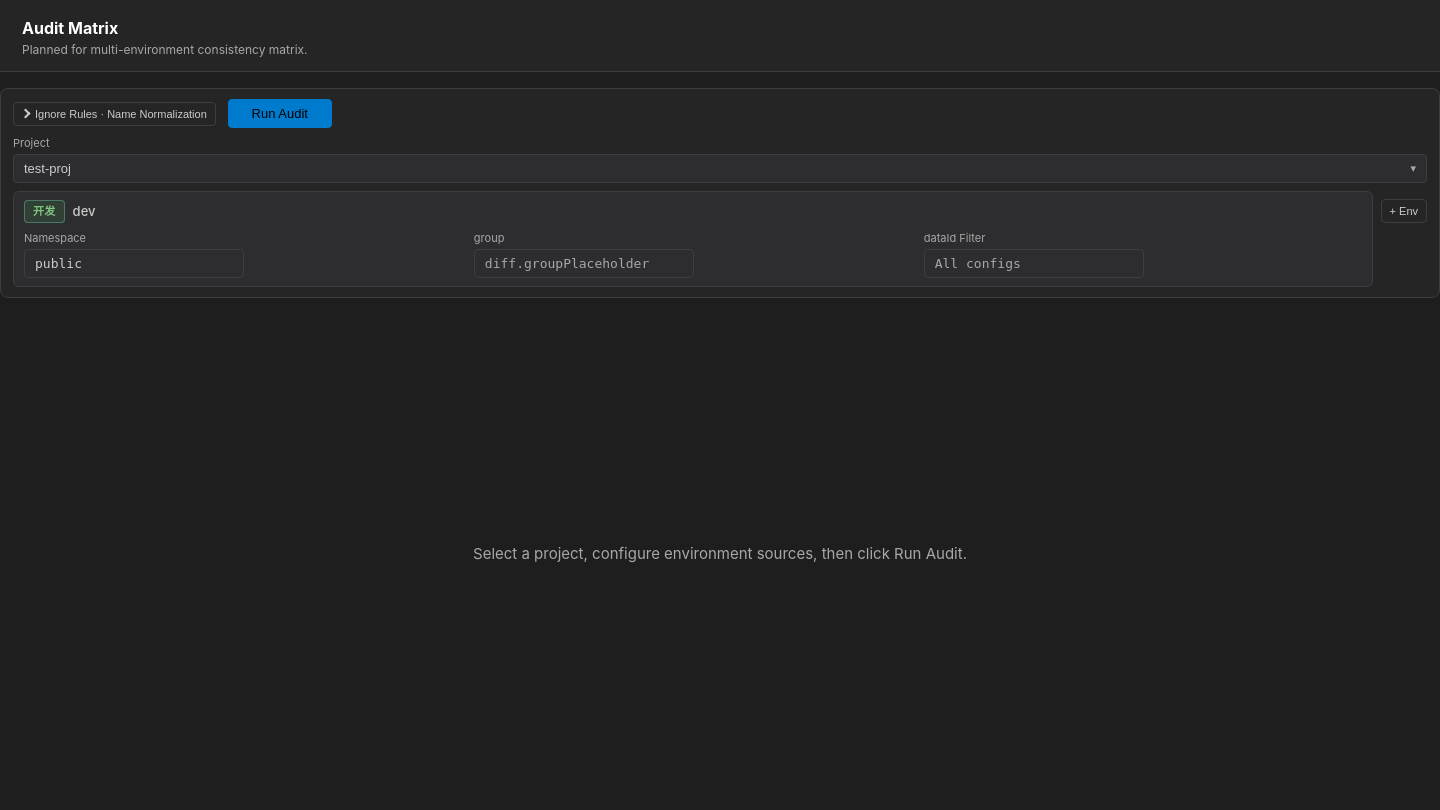
Test: AuditView › 显示错误当少于2个环境时点击执行审计
Click the button "Run Audit": (280, 114) x1=228 y1=99 x2=332 y2=128
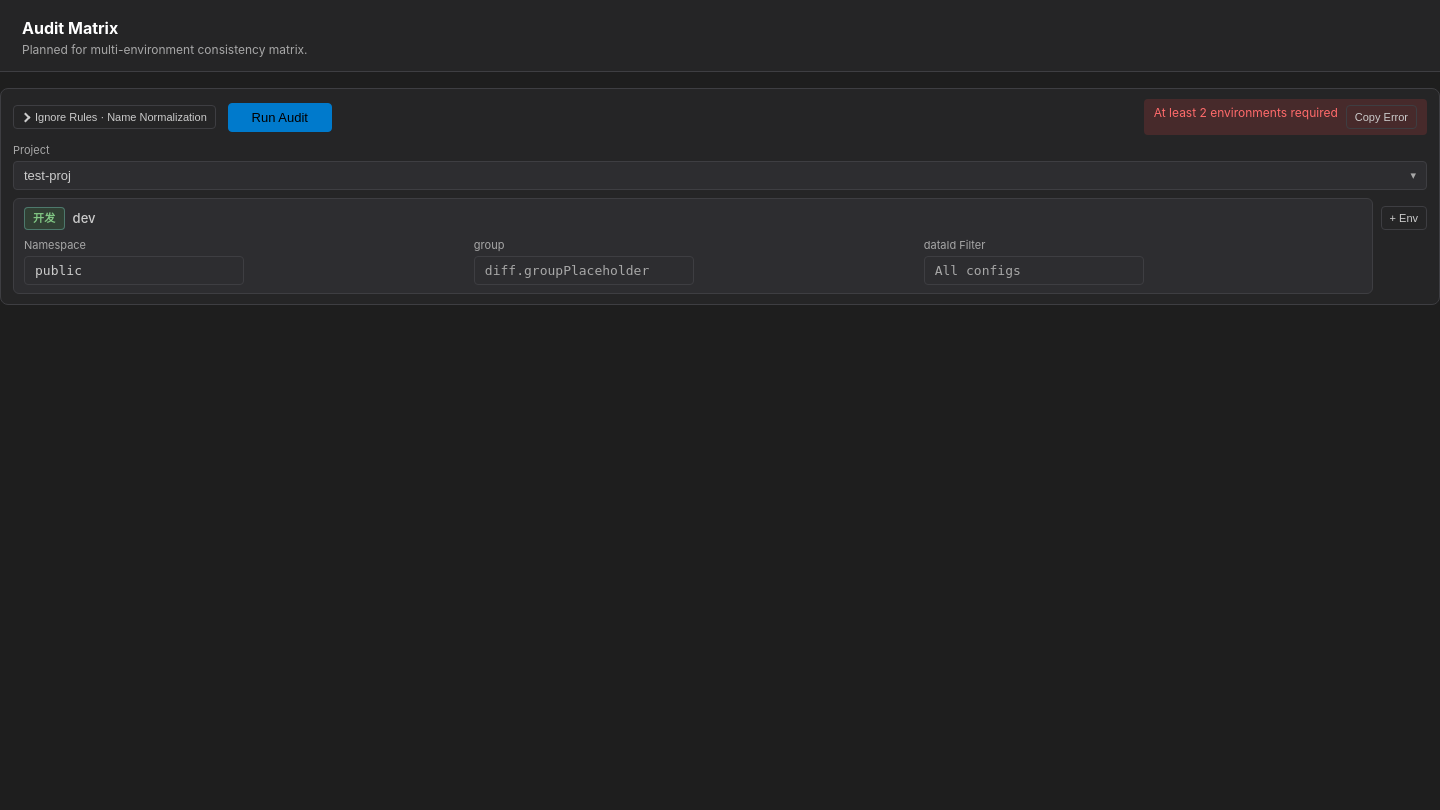
Check: the text "At least 2 environments required" is shown, box x1=1154 y1=105 x2=1338 y2=120
Check: the button "Copy Error" is shown, box x1=1346 y1=105 x2=1417 y2=129
